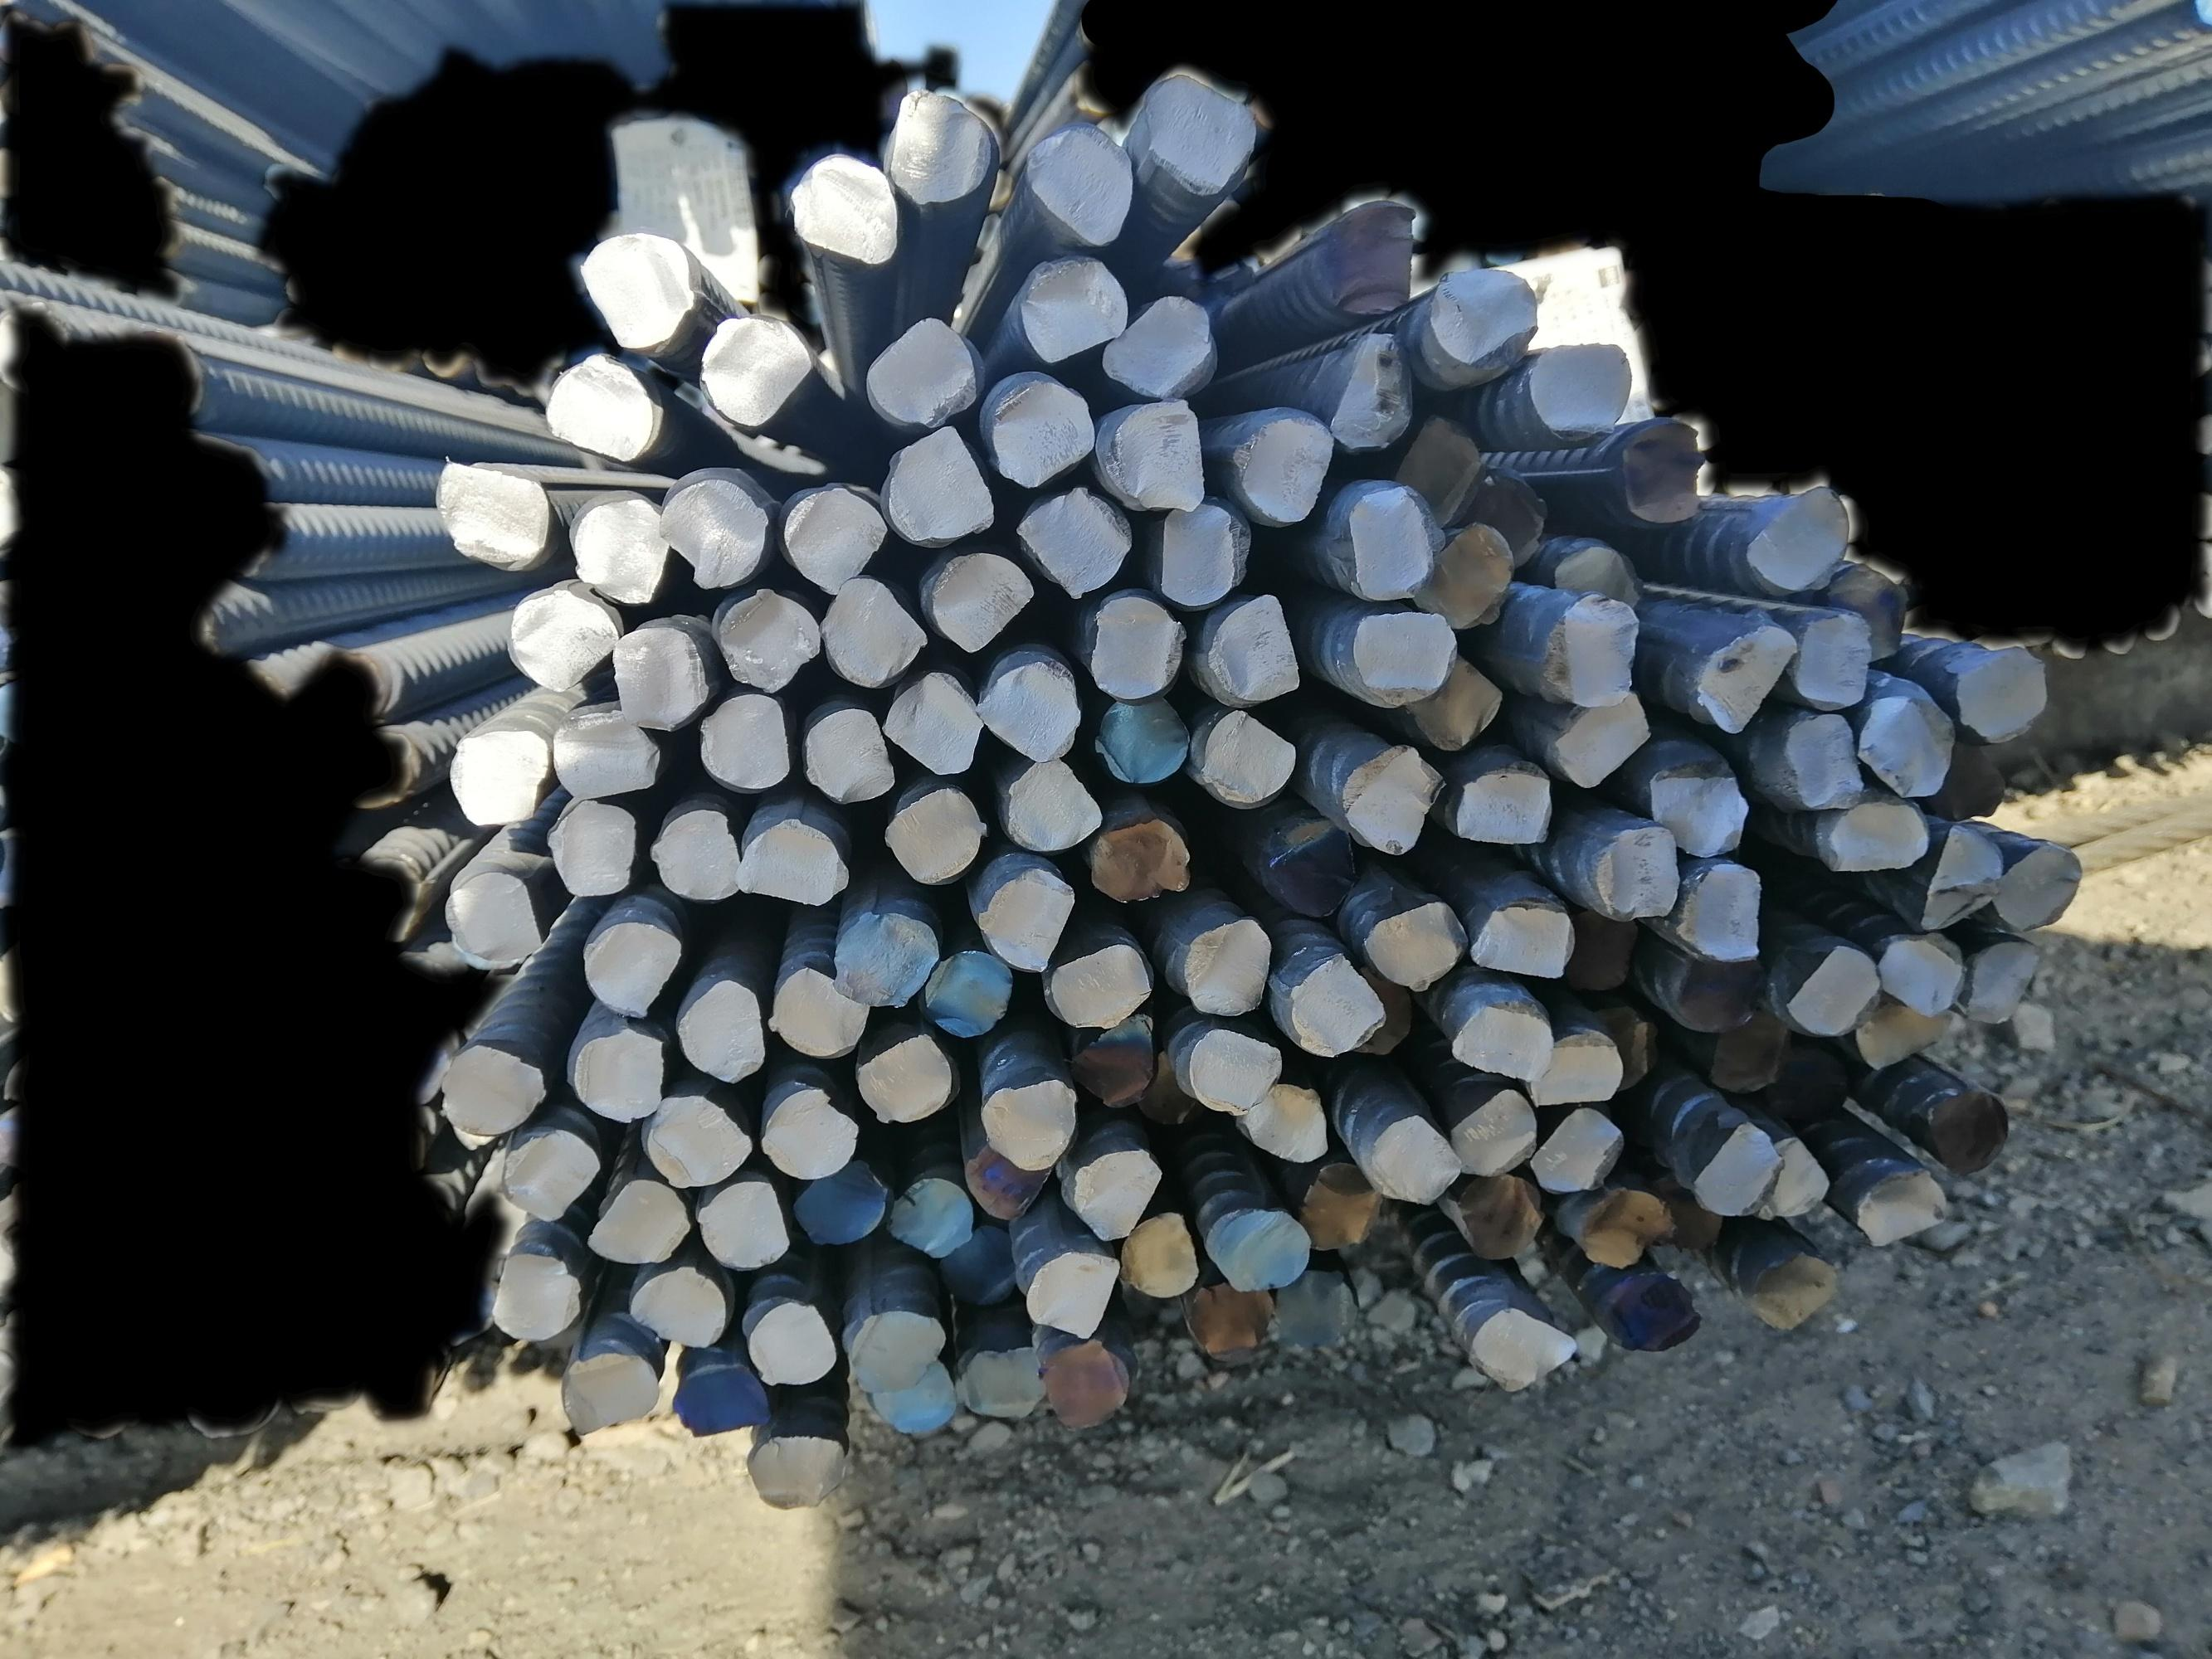bar: (573, 227, 699, 350), (1023, 122, 1138, 254), (537, 350, 664, 467), (1143, 71, 1262, 195), (694, 310, 819, 427), (657, 464, 772, 591), (861, 305, 978, 427), (882, 418, 997, 542), (431, 457, 553, 572), (1421, 261, 1544, 375), (884, 87, 995, 209), (1103, 291, 1225, 403), (814, 572, 927, 690), (1339, 737, 1443, 864), (1018, 484, 1131, 601), (1686, 622, 1799, 737), (790, 152, 901, 268), (988, 369, 1096, 490), (1316, 192, 1419, 317), (1229, 410, 1333, 532), (779, 479, 889, 594), (444, 720, 553, 835), (1105, 397, 1210, 516), (636, 1089, 757, 1192), (927, 547, 1037, 659), (605, 622, 713, 735), (1741, 484, 1855, 592), (882, 666, 988, 781), (1407, 519, 1515, 631), (507, 587, 622, 692), (572, 490, 671, 610), (1020, 251, 1126, 362), (1346, 484, 1445, 603), (1651, 748, 1754, 861), (1203, 589, 1306, 702), (1386, 410, 1487, 525), (1539, 591, 1640, 706), (732, 814, 852, 910), (1855, 687, 1958, 798), (1523, 336, 1637, 437), (715, 586, 819, 694), (976, 659, 1084, 763), (1351, 603, 1459, 708), (580, 918, 683, 1028), (1067, 1136, 1168, 1248), (976, 864, 1077, 976), (1543, 687, 1654, 788), (1086, 589, 1185, 702), (690, 688, 795, 795), (1285, 951, 1389, 1058), (882, 784, 992, 885), (833, 910, 940, 1012), (1781, 934, 1883, 1042), (1325, 331, 1415, 451), (540, 789, 638, 901), (1360, 894, 1471, 992), (1684, 1110, 1780, 1223), (547, 706, 662, 800), (648, 805, 750, 911), (1815, 788, 1933, 878), (444, 868, 544, 976), (840, 1302, 952, 1398), (1909, 823, 2003, 936), (763, 962, 870, 1061), (438, 1044, 547, 1140), (497, 1124, 601, 1223), (584, 1173, 692, 1269), (1611, 415, 1705, 525), (1466, 1302, 1576, 1396), (981, 1073, 1082, 1175), (568, 1025, 668, 1127), (1255, 819, 1354, 922), (1192, 708, 1297, 805), (1037, 1331, 1137, 1432), (757, 1084, 859, 1182), (1944, 643, 2046, 741), (1044, 939, 1152, 1032), (856, 1026, 955, 1126), (1020, 1244, 1123, 1340), (1156, 500, 1248, 606), (1447, 999, 1557, 1087), (692, 1175, 790, 1274), (1679, 863, 1773, 965), (1987, 833, 2081, 936), (1086, 812, 1191, 904), (554, 1347, 661, 1438), (1206, 1202, 1313, 1293), (1180, 918, 1278, 1016), (486, 1246, 582, 1345), (1070, 1011, 1166, 1110), (1295, 1157, 1386, 1262), (1572, 1178, 1677, 1269), (1787, 606, 1877, 711), (1002, 756, 1102, 850), (1745, 1248, 1848, 1338), (1823, 554, 1909, 662), (800, 706, 896, 802), (1452, 1171, 1543, 1272), (1776, 709, 1867, 810), (1180, 1023, 1285, 1110), (1666, 950, 1771, 1037), (622, 1263, 729, 1349), (1590, 824, 1684, 920), (1368, 1110, 1462, 1206), (1849, 1159, 1947, 1251), (743, 1431, 852, 1513), (1468, 897, 1578, 979), (1089, 695, 1192, 782), (1600, 1270, 1703, 1358), (1768, 1037, 1862, 1131), (743, 1297, 842, 1385), (1525, 1105, 1625, 1194), (680, 979, 767, 1080), (1414, 655, 1504, 751), (1462, 464, 1546, 566), (793, 1154, 885, 1246), (1518, 1025, 1625, 1105), (1926, 1082, 2013, 1180), (926, 941, 1013, 1037), (1272, 1258, 1363, 1349), (1447, 1086, 1537, 1176), (1114, 1202, 1199, 1298), (669, 1358, 767, 1441), (1455, 763, 1553, 845), (955, 1335, 1042, 1425), (1178, 1279, 1276, 1359), (960, 1136, 1051, 1222), (1876, 929, 1968, 1012), (1551, 535, 1649, 613), (1750, 1127, 1829, 1225), (1963, 934, 2041, 1032), (1706, 1009, 1795, 1094), (1236, 1080, 1330, 1161), (1562, 901, 1642, 995), (1855, 1000, 1958, 1072), (866, 1352, 953, 1436), (891, 1175, 973, 1262), (1938, 728, 2015, 821), (936, 1225, 1023, 1305), (1344, 960, 1415, 1058), (1586, 999, 1659, 1093), (1640, 1178, 1729, 1244)
